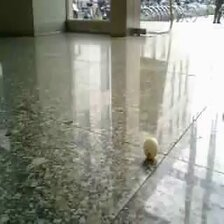w: (142, 136, 161, 160)
